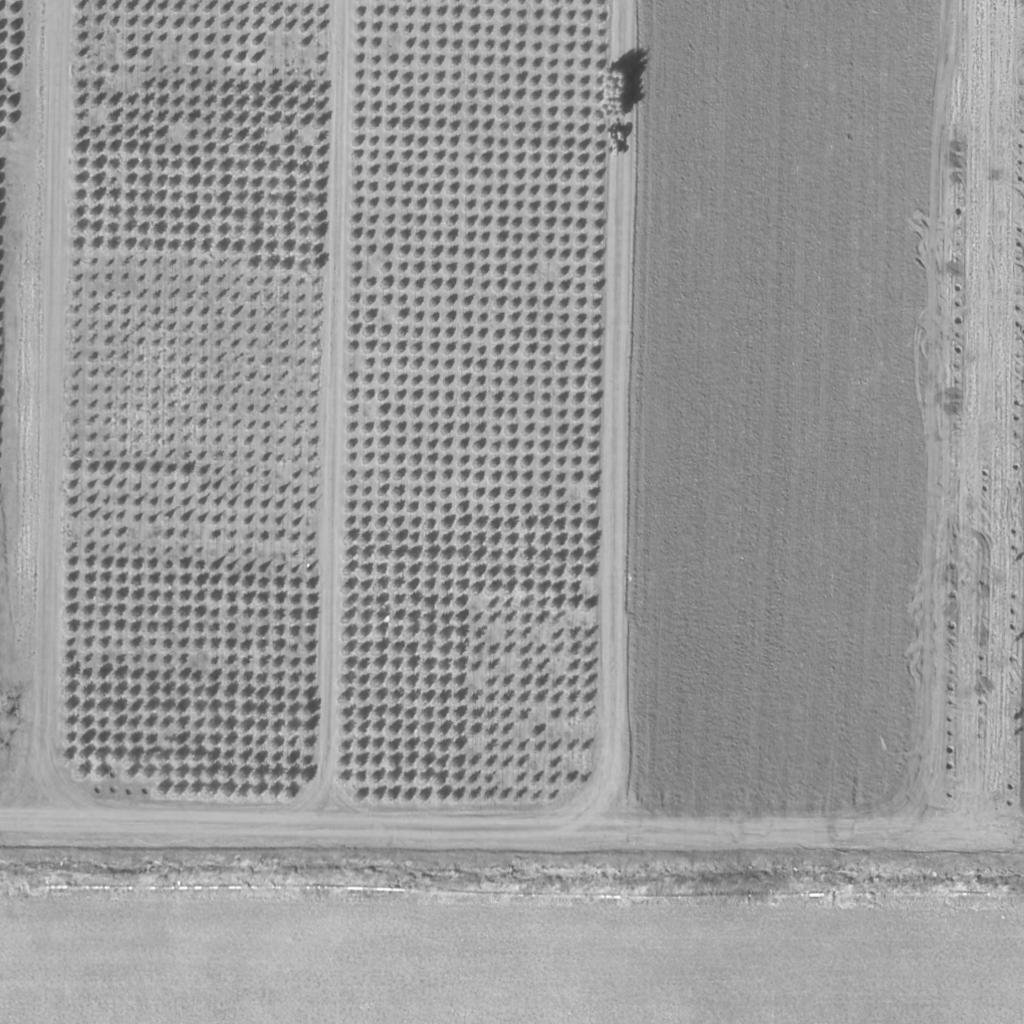vehicle: (606, 129, 628, 159)
